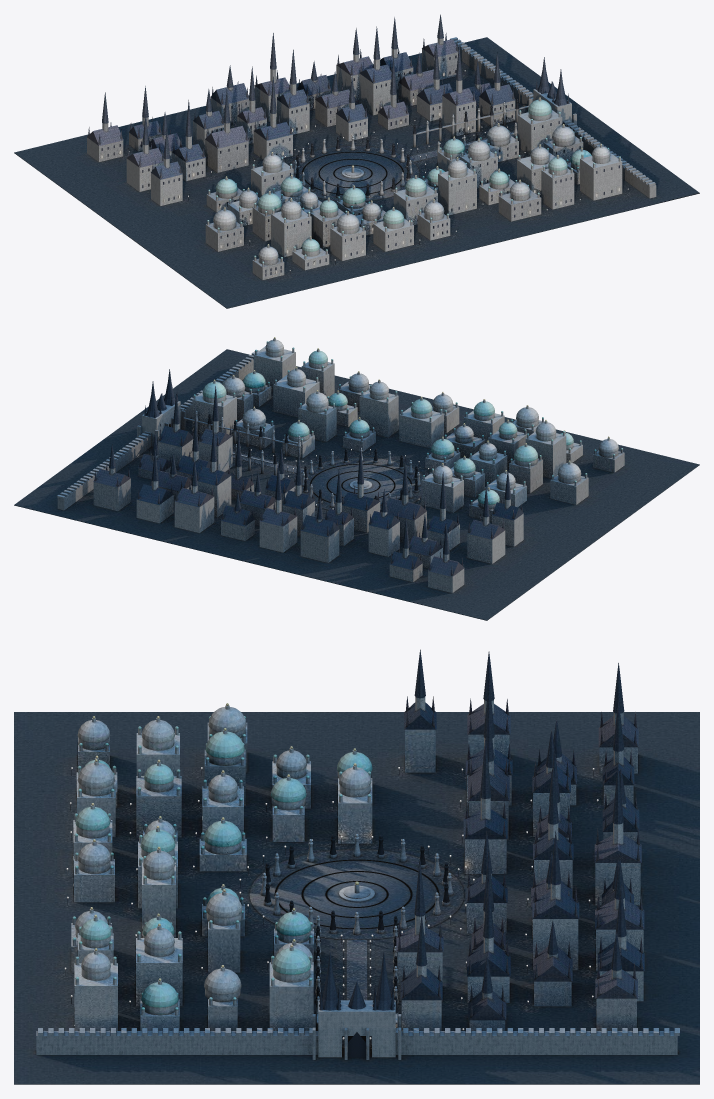
The model's file is yuanyu_city.glb.
The picture shows the model from 3 angles, top to bottom: view 1: azimuth 30°, elevation 25°; view 2: azimuth 150°, elevation 25°; view 3: azimuth 270°, elevation 25°; orthographic projection. The views are drawn at different scales.
Parts seen in each view (by area): view 1: site_ground, props_domes, props_spires, props_gate, props_plaza; view 2: site_ground, props_domes, props_spires, props_gate, props_plaza; view 3: site_ground, props_domes, props_spires, props_gate, props_plaza, props_lamps.
Boxes of the visible parts, x1,y1,x2,y2 form: site_ground: (14, 37, 699, 308); props_domes: (205, 97, 622, 280); props_spires: (87, 14, 515, 205); props_gate: (450, 37, 656, 198); props_plaza: (293, 98, 529, 197); site_ground: (14, 349, 699, 620); props_domes: (192, 337, 624, 521); props_spires: (93, 386, 523, 592); props_gate: (57, 350, 258, 510); props_plaza: (159, 410, 420, 507); site_ground: (14, 712, 699, 1084); props_domes: (71, 703, 372, 1030); props_spires: (396, 649, 644, 1030); props_gate: (36, 952, 679, 1059); props_plaza: (260, 834, 453, 1030); props_lamps: (64, 767, 598, 1045).
Bounding box in the file's own units: 590 × 101 × 460.
Materials: 6 (6 with a texture image).
